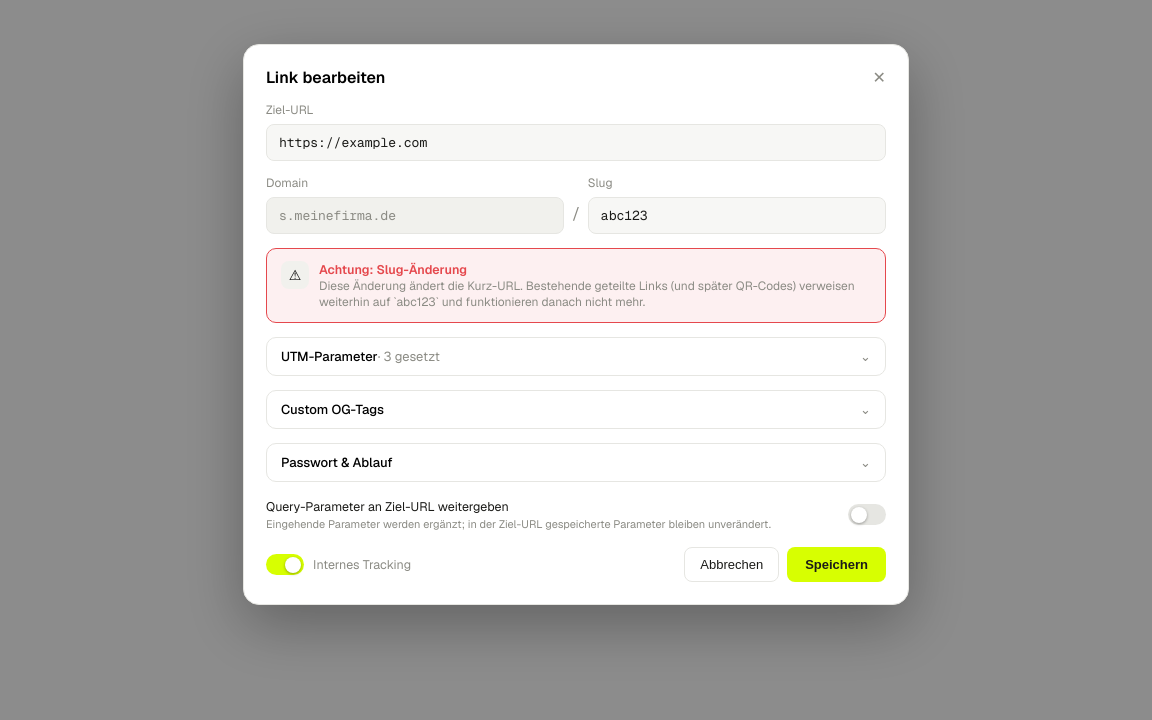
Test: LinkFormModal › UTM-Parameter section (Surface A) › in edit mode the three inputs are pre-filled from the passed-in initial values
The width and height of the screenshot is (1152, 720).
Click the button with class "accordion-header--utm": (329, 356) 281,348 -> 871,365
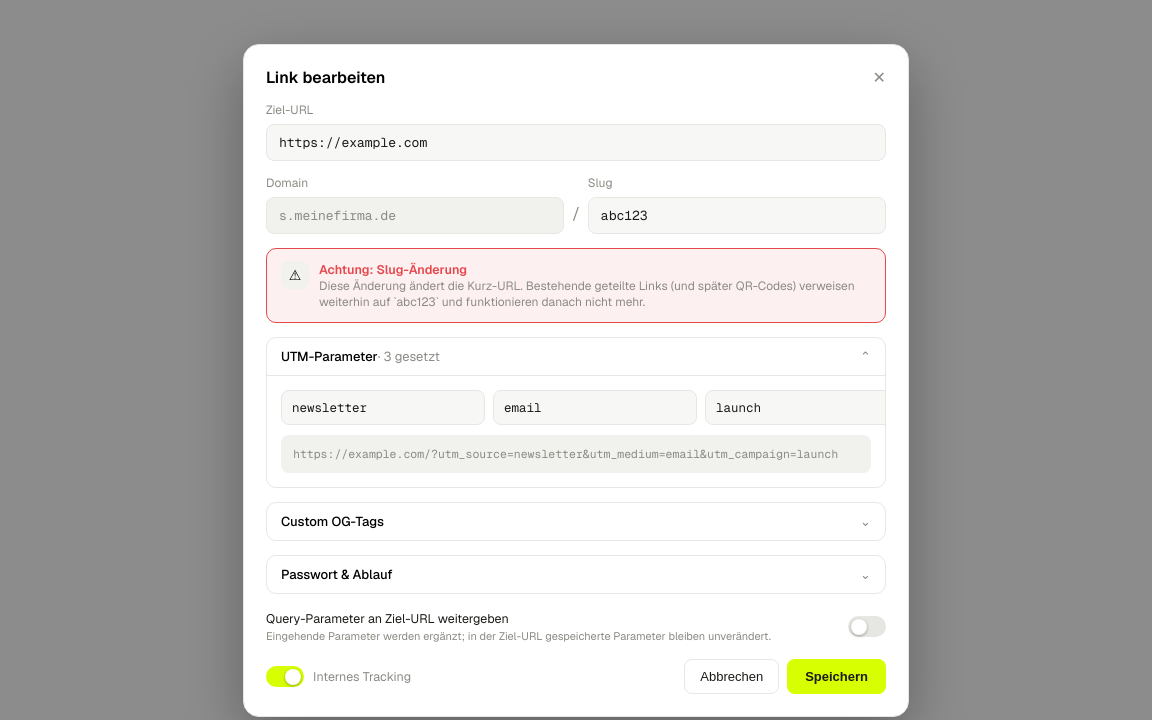
expect the 3rd field with class "utm-input" holds "newsletter": met, box 281,390 -> 485,425
expect the 4th field with class "utm-input" holds "email": met, box 493,390 -> 697,425
expect the 5th field with class "utm-input" holds "launch": met, box 705,390 -> 886,425
